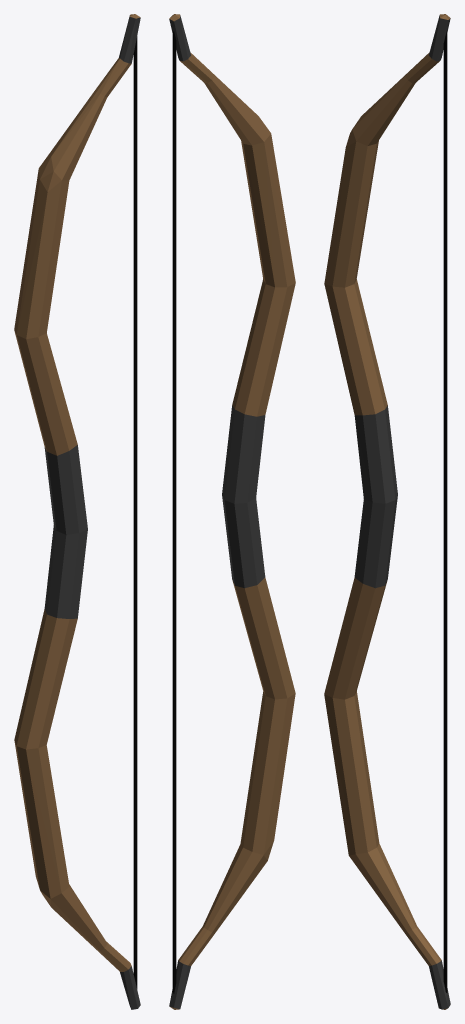
File: Bow 1.fbx
The picture shows the model from 3 angles, left to right: view 1: azimuth 30°, elevation 25°; view 2: azimuth 210°, elevation 25°; view 3: azimuth 330°, elevation 25°; orthographic projection.
Parts seen in each view (by area): view 1: Bow; view 2: Bow; view 3: Bow.
Boxes of the visible parts, box(x1,y1,x2,y2) form: Bow: box(14, 14, 140, 1009); Bow: box(169, 14, 295, 1009); Bow: box(324, 14, 450, 1009).
Size of the model in its own units: 21.81 by 168 by 5.1.
